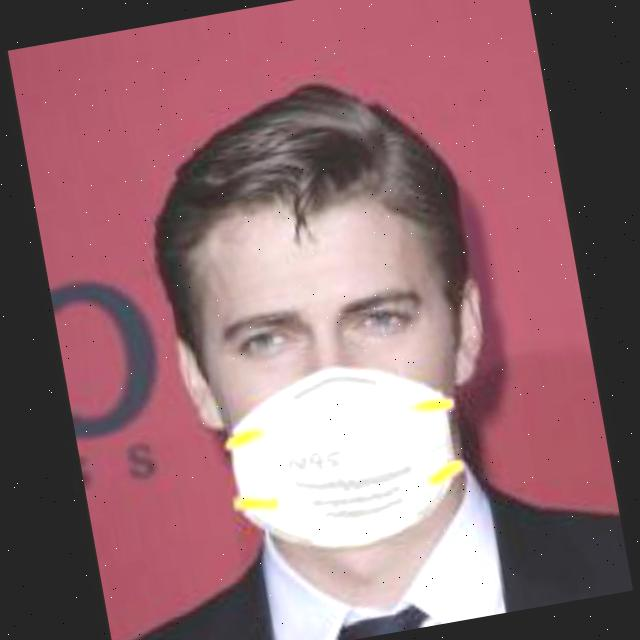suspicion: (138, 112, 541, 610)
